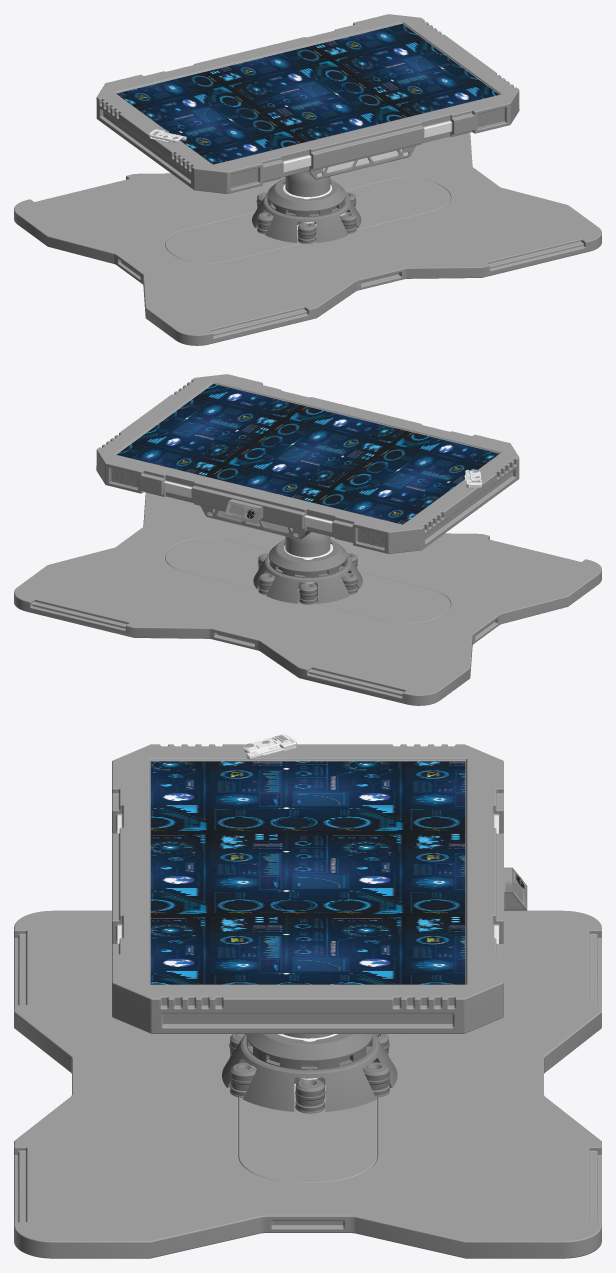
The model's file is table.glb.
3 renders of one model, top to bottom at view 1: azimuth 30°, elevation 25°; view 2: azimuth 150°, elevation 25°; view 3: azimuth 270°, elevation 25°, orthographic. The views are drawn at different scales.
Visible parts, largest first — view 1: Object_5, Object_50, Object_6; view 2: Object_5, Object_50, Object_6; view 3: Object_5, Object_50, Object_6.
Boxes of the visible parts, left/top/right/bottom form: Object_5: left=14, top=14, right=601, bottom=345; Object_50: left=116, top=23, right=499, bottom=164; Object_6: left=149, top=121, right=451, bottom=237; Object_5: left=14, top=374, right=601, bottom=705; Object_50: left=116, top=383, right=499, bottom=524; Object_6: left=164, top=470, right=481, bottom=597; Object_5: left=14, top=735, right=601, bottom=1258; Object_50: left=150, top=761, right=465, bottom=984; Object_6: left=117, top=734, right=498, bottom=1103.
Bounding box in the file's own units: 3.03 × 0.9828 × 2.28.
7 materials, 7 textured.
